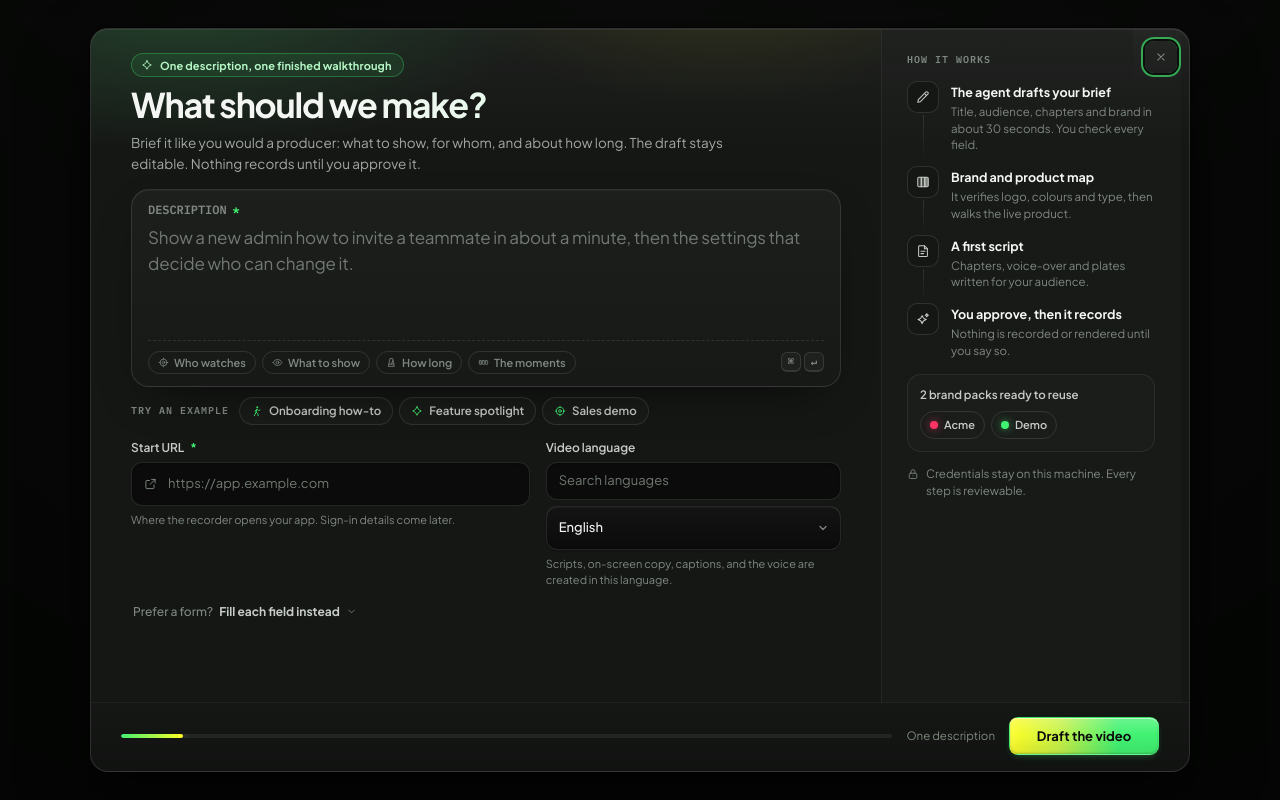
Test: ProjectDialog — new video › jumps to a step from the nav, validating the steps before it
This screenshot has width=1280, height=800.
Click the button "Prefer a form? Fill each field instead" at (245, 611), box [131,598,359,625]
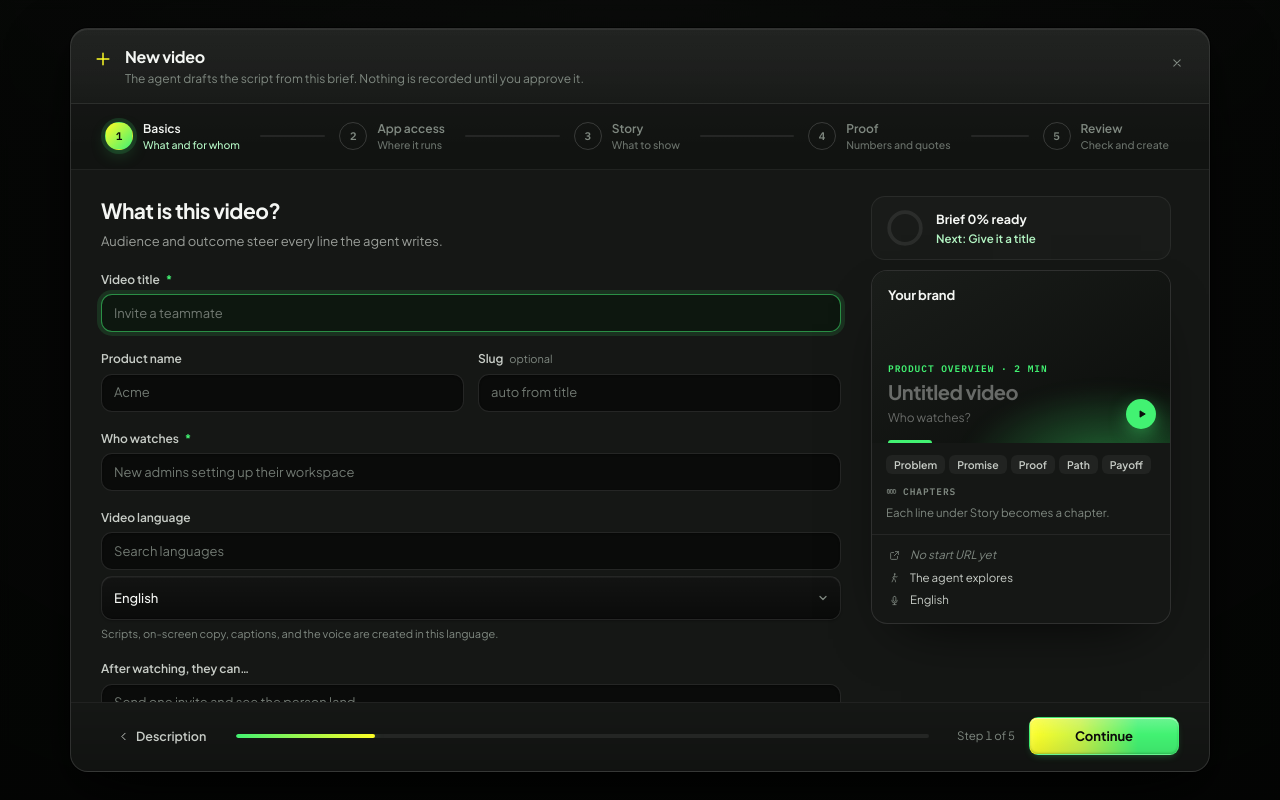
Click the list item "4 Proof Numbers and quotes" at (882, 136), box [804,118,961,155]
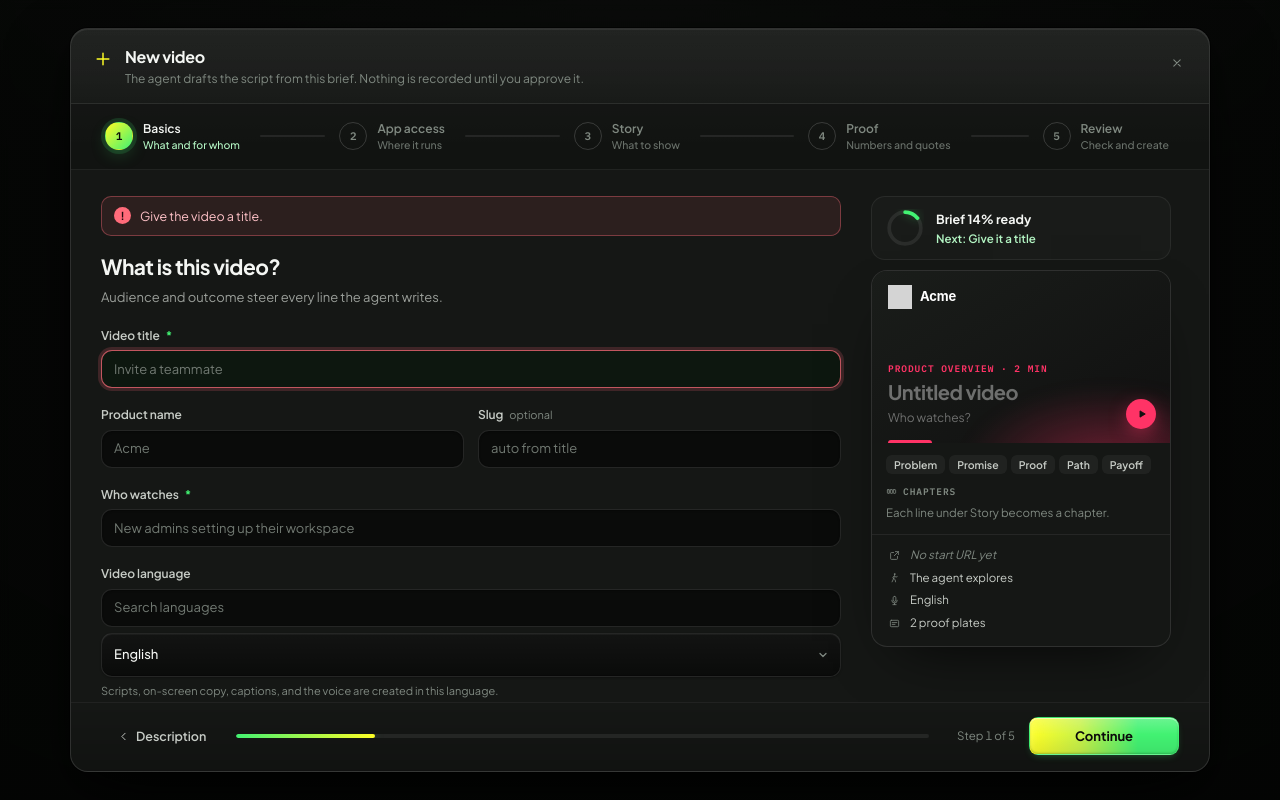
Expected: the message with id "wizardError" reads "Give the video a title.", [140,208,263,224]
